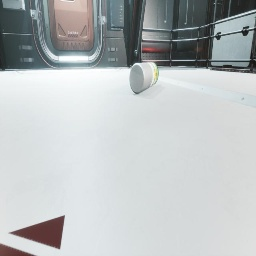0: (129, 62, 159, 94)
SafetySwitchPanel ,: (2, 0, 26, 11)
